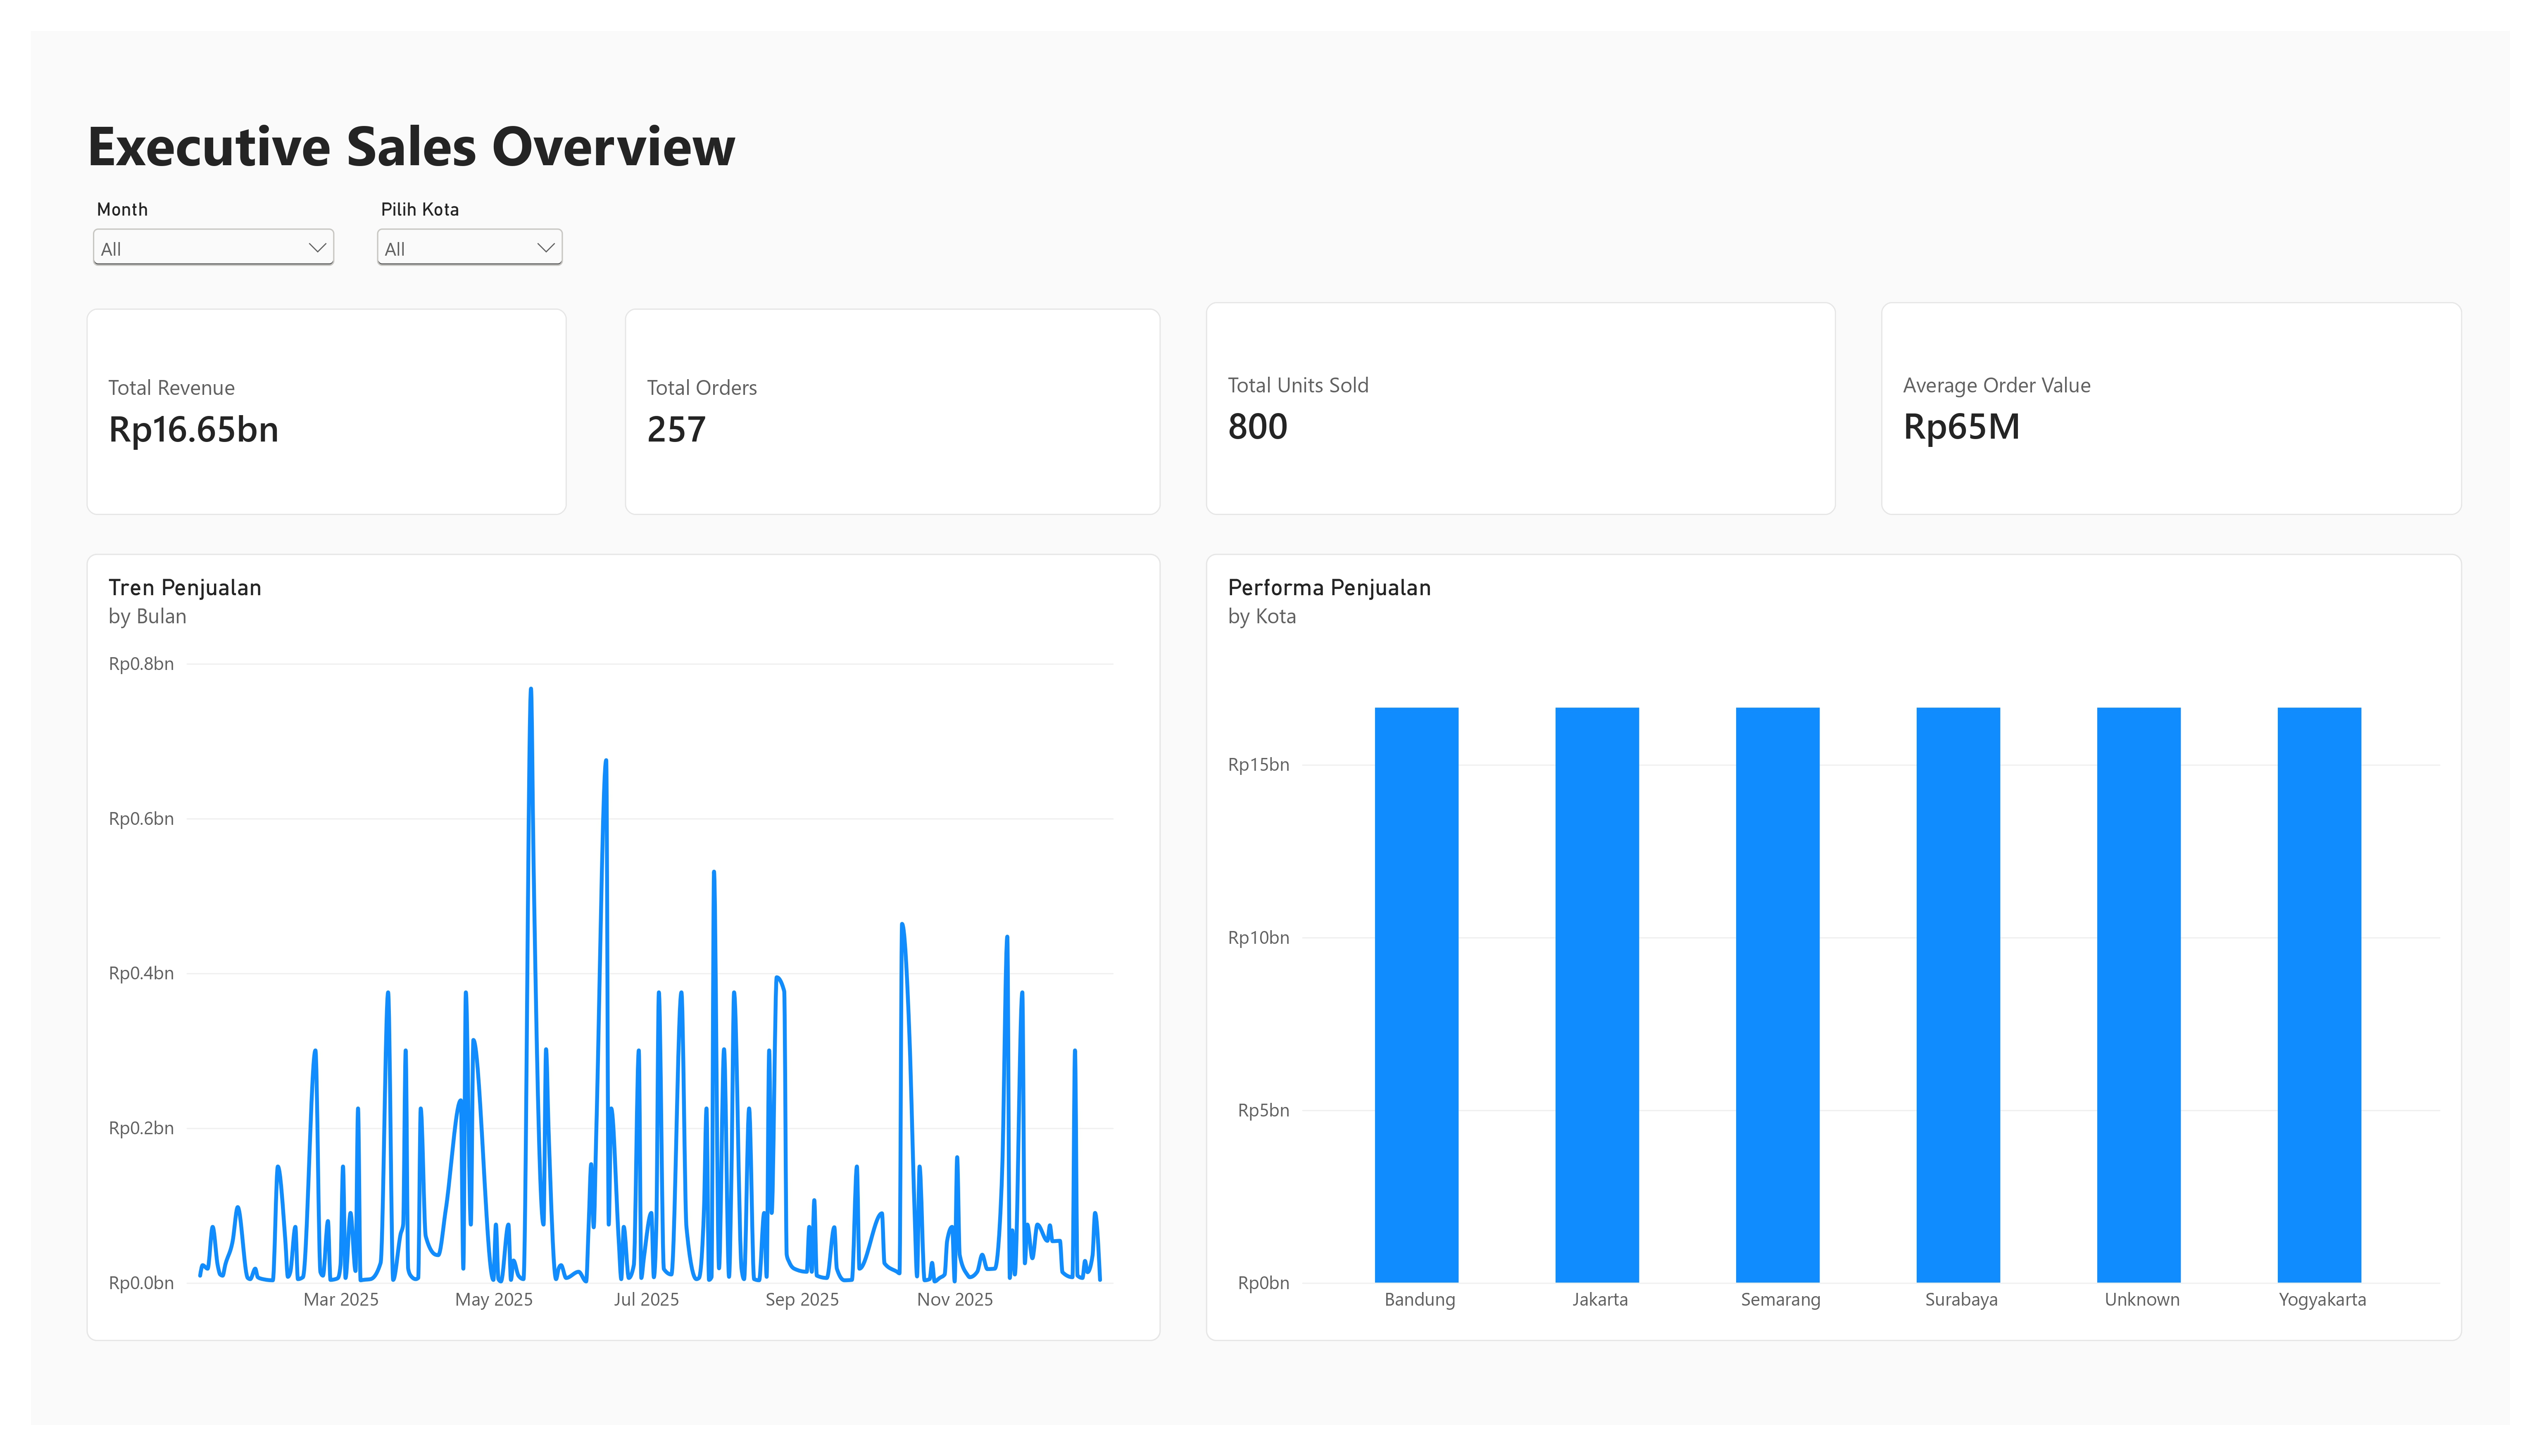

The page's visual inventory and layout, read from the dashboard file:
{"tool":"powerbi","page":{"name":"Executive Overview","canvas":[1920,1080],"ordinal":0},"visuals":[{"type":"cardVisual","title":"Total Revenue","fields":{"Data":["Sum(mart_daily_sales.total_revenue)"]},"box":[42.5,215,372.5,160],"z":0},{"type":"cardVisual","fields":{"Data":["Sum(mart_daily_sales.total_orders)"]},"box":[460,215,415,160],"z":1000},{"type":"cardVisual","fields":{"Data":["Sum(mart_daily_sales.total_units_sold)"]},"box":[910,210,487.5,165],"z":2000},{"type":"cardVisual","fields":{"Data":["Avg(mart_daily_sales.avg_order_value)"]},"box":[1432.5,210,450,165],"z":3000},{"type":"lineChart","fields":{"Y":["Sum(mart_daily_sales.total_revenue)"],"Category":["mart_daily_sales.sale_date"]},"box":[42.5,405,832.5,610],"z":4000},{"type":"columnChart","fields":{"Category":["mart_sales_by_city_product.city"],"Y":["Sum(mart_daily_sales.total_revenue)"]},"box":[910,405,972.5,610],"z":5000},{"type":"slicer","fields":{"Values":["mart_daily_sales.sale_date.Variation.Date Hierarchy.Month"]},"box":[42.5,130,197.5,85],"z":6000},{"type":"slicer","fields":{"Values":["mart_sales_by_city_product.city"]},"box":[262.5,130,154,54],"z":7000},{"type":"textbox","box":[42.5,47.5,660,65],"z":8000}]}

Visuals, with their boxes on the page's 1920x1080 design canvas (x1, y1, x2, y2). These are canvas units, not pixel positions in the 2541x1456 screenshot, which may show the page scaled, cropped or inside an application window:
"Total Revenue" cardVisual: 42:215:415:375
cardVisual - Sum(mart_daily_sales.total_orders): 460:215:875:375
cardVisual - Sum(mart_daily_sales.total_units_sold): 910:210:1398:375
cardVisual - Avg(mart_daily_sales.avg_order_value): 1432:210:1882:375
lineChart - Sum(mart_daily_sales.total_revenue) x mart_daily_sales.sale_date: 42:405:875:1015
columnChart - mart_sales_by_city_product.city x Sum(mart_daily_sales.total_revenue): 910:405:1882:1015
slicer - mart_daily_sales.sale_date.Variation.Date Hierarchy.Month: 42:130:240:215
slicer - mart_sales_by_city_product.city: 262:130:416:184
textbox: 42:48:702:112
